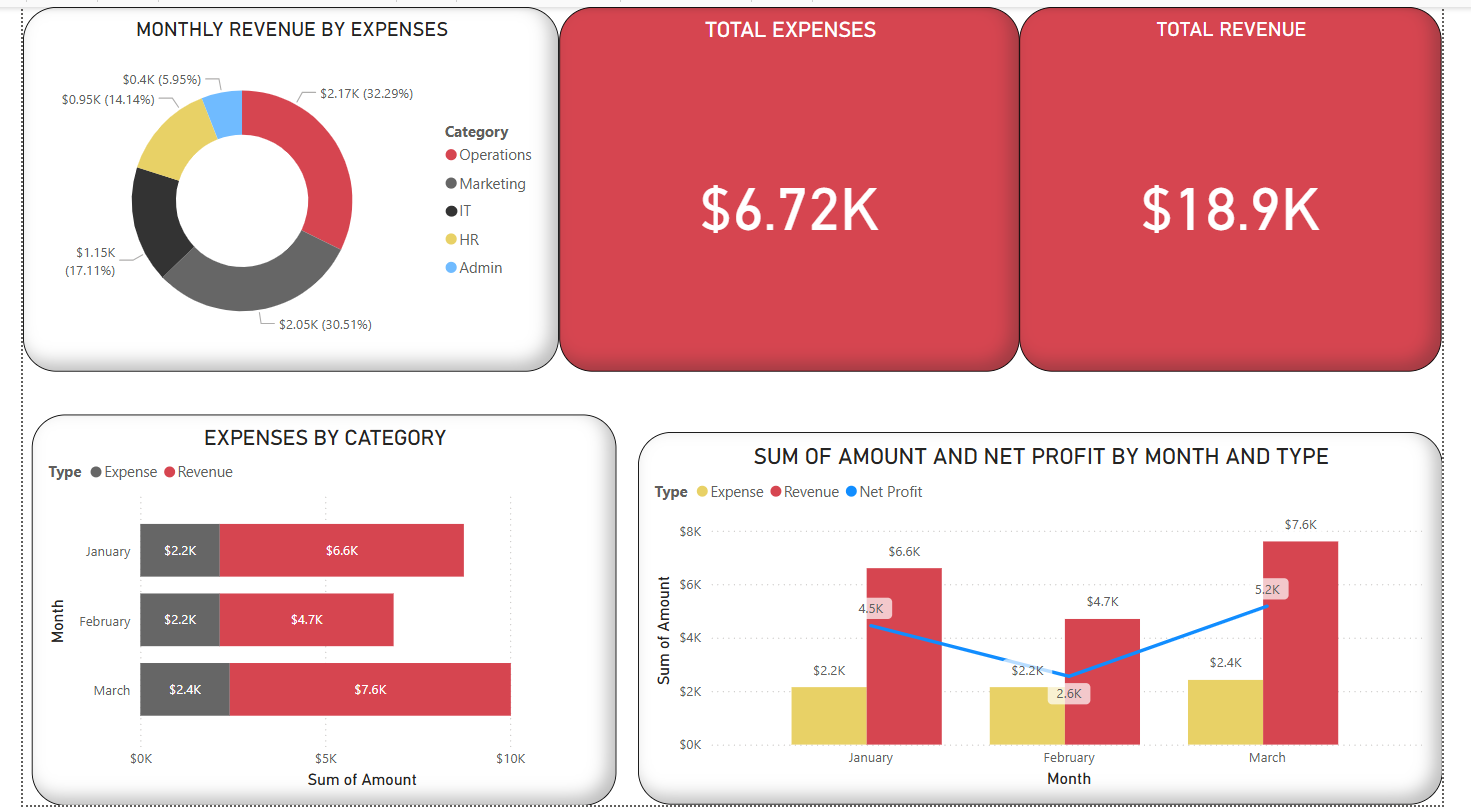

Layout of this report page (visuals, bound fields, positions):
{"tool":"powerbi","page":{"name":"Page 1","canvas":[1280,720],"ordinal":0},"visuals":[{"type":"card","title":"TOTAL REVENUE","fields":{"Values":["Sum(Finance_Data.Amount)"]},"box":[898.8,0,380.9,328.9],"z":0},{"type":"card","title":"TOTAL EXPENSES","fields":{"Values":["Sum(Finance_Data.Amount)"]},"box":[483.3,0,415.5,328.9],"z":1},{"type":"barChart","title":"EXPENSES BY CATEGORY","fields":{"Category":["Finance_Data.Date.Variation.Date Hierarchy.Month"],"Y":["Sum(Finance_Data.Amount)"],"Series":["Finance_Data.Type"]},"box":[7.9,367.4,527.5,352.8],"z":2},{"type":"donutChart","title":"MONTHLY REVENUE BY EXPENSES","fields":{"Category":["Finance_Data.Category"],"Y":["Sum(Finance_Data.Amount)"]},"box":[0,0,483.5,329.1],"z":3},{"type":"lineClusteredColumnComboChart","title":"SUM OF AMOUNT AND NET PROFIT BY MONTH AND TYPE","fields":{"Category":["Finance_Data.Date.Variation.Date Hierarchy.Month"],"Y":["Sum(Finance_Data.Amount)"],"Y2":["Finance_Data.Net Profit"],"Series":["Finance_Data.Type"]},"box":[554,383.8,725.7,336.2],"z":4}]}

Visuals, with their boxes in screenshot pixels (x1, y1, x2, y2), scaled from the page's 1280x720 canvas onto the 1471x809 screenshot:
"TOTAL REVENUE" card: box=[1033, 0, 1470, 370]
"TOTAL EXPENSES" card: box=[555, 0, 1033, 370]
"EXPENSES BY CATEGORY" barChart: box=[9, 413, 615, 808]
"MONTHLY REVENUE BY EXPENSES" donutChart: box=[0, 0, 556, 370]
"SUM OF AMOUNT AND NET PROFIT BY MONTH AND TYPE" lineClusteredColumnComboChart: box=[637, 431, 1470, 808]
